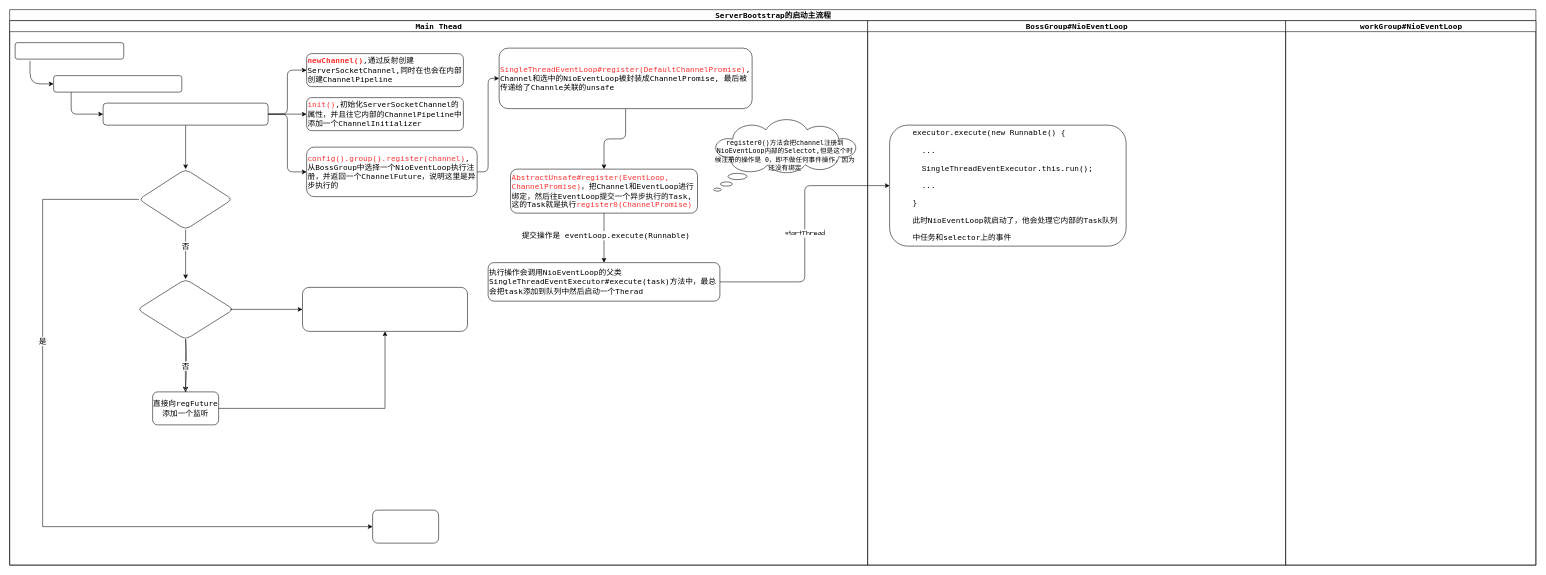
Image size: 1546x575. Some labels were removed from this diagram. The shapes that lost their labels are listed below. From the top down, each one's centre as x and y in pixels, then its label:
At pixel 69 50: "ServerBootstrap#bind()".
At pixel 117 83: "AbstractBootstrap#doBind()".
At pixel 185 114: "AbstractBootstrap#initAndRegister()".
At pixel 185 199: "发生异常regFuture#cause() != null".
At pixel 185 309: "任务是否完成 future#isDone".
At pixel 385 309: "AbstractBootstrap#doBind0()，".
At pixel 405 526: "结束".
